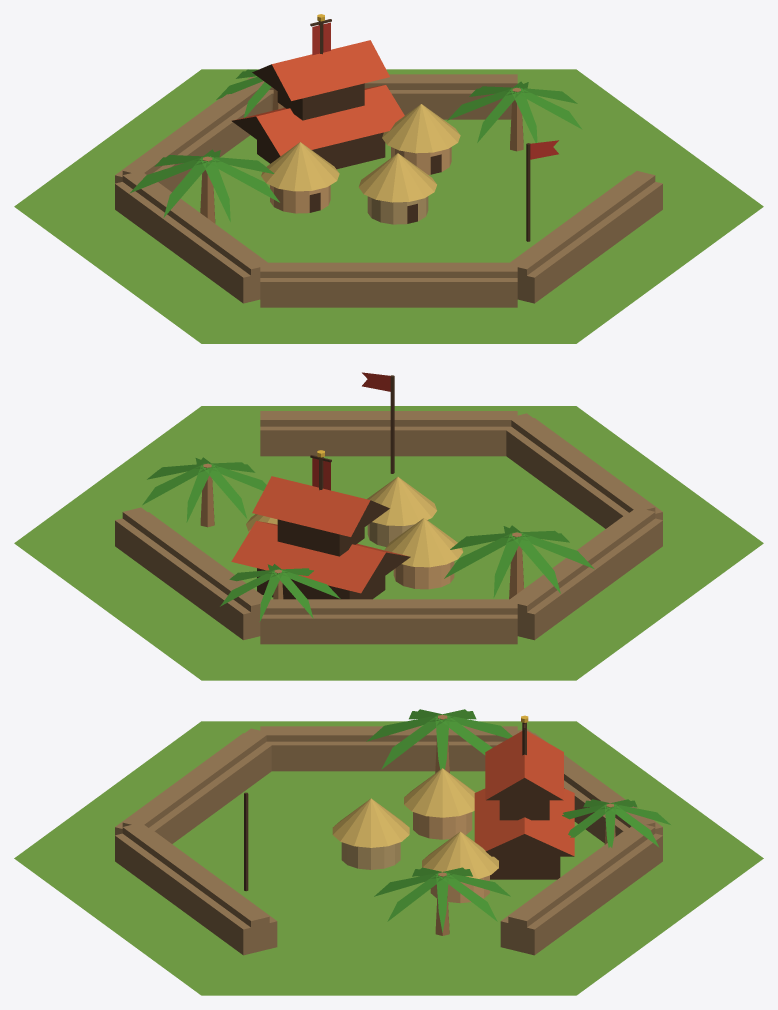
The model's file is district_thanh_1.fbx.
The picture shows the model from 3 angles, top to bottom: view 1: azimuth 30°, elevation 25°; view 2: azimuth 150°, elevation 25°; view 3: azimuth 270°, elevation 25°; orthographic projection.
Visible parts, largest first — view 1: district_thanh_1; view 2: district_thanh_1; view 3: district_thanh_1.
Boxes of the visible parts, x1,y1,x2,y2 form: district_thanh_1: [14, 14, 763, 343]; district_thanh_1: [14, 372, 763, 680]; district_thanh_1: [14, 709, 763, 995].
Bounding box in the file's own units: 182 × 43.6 × 210.
